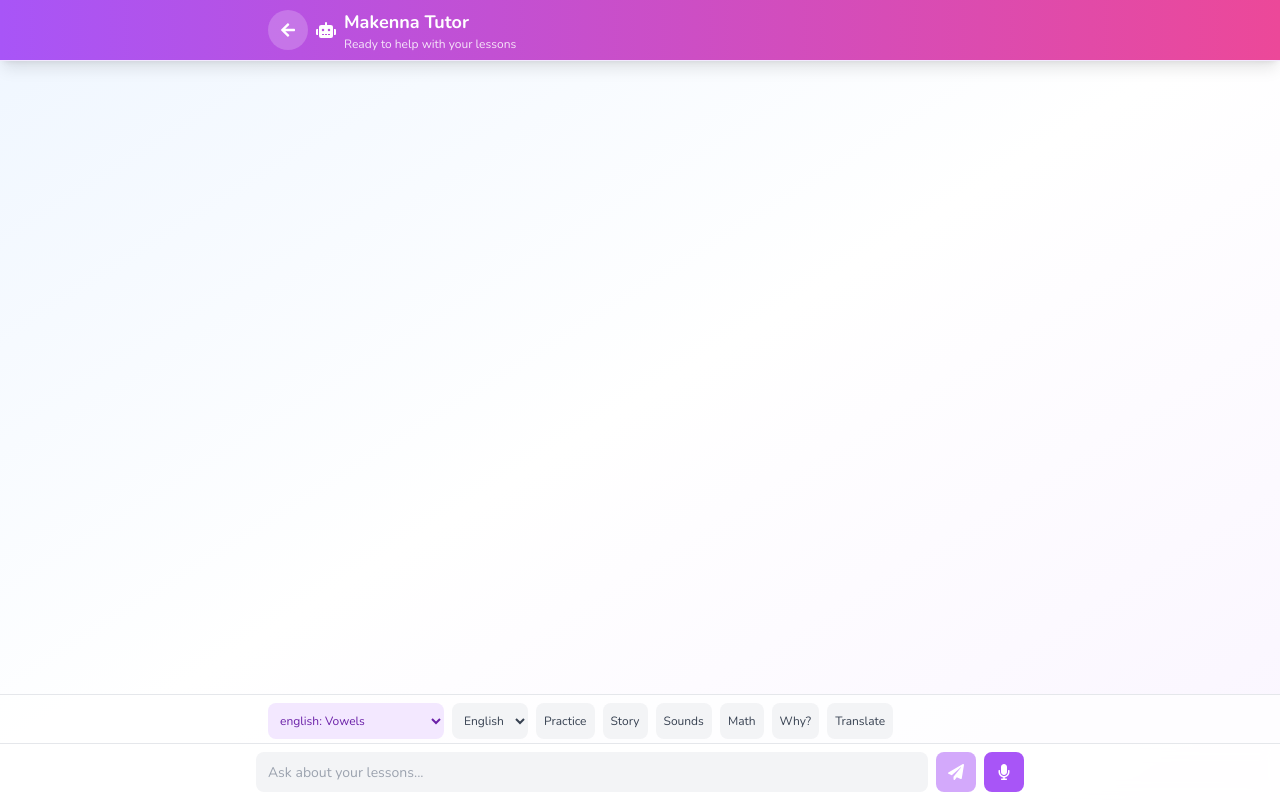
Makenna Tutor page › does not offer an unmatched lesson link
Type "Tell me a joke" into the field labelled "Ask about your lessons" at (592, 772), box [256,752,928,792]
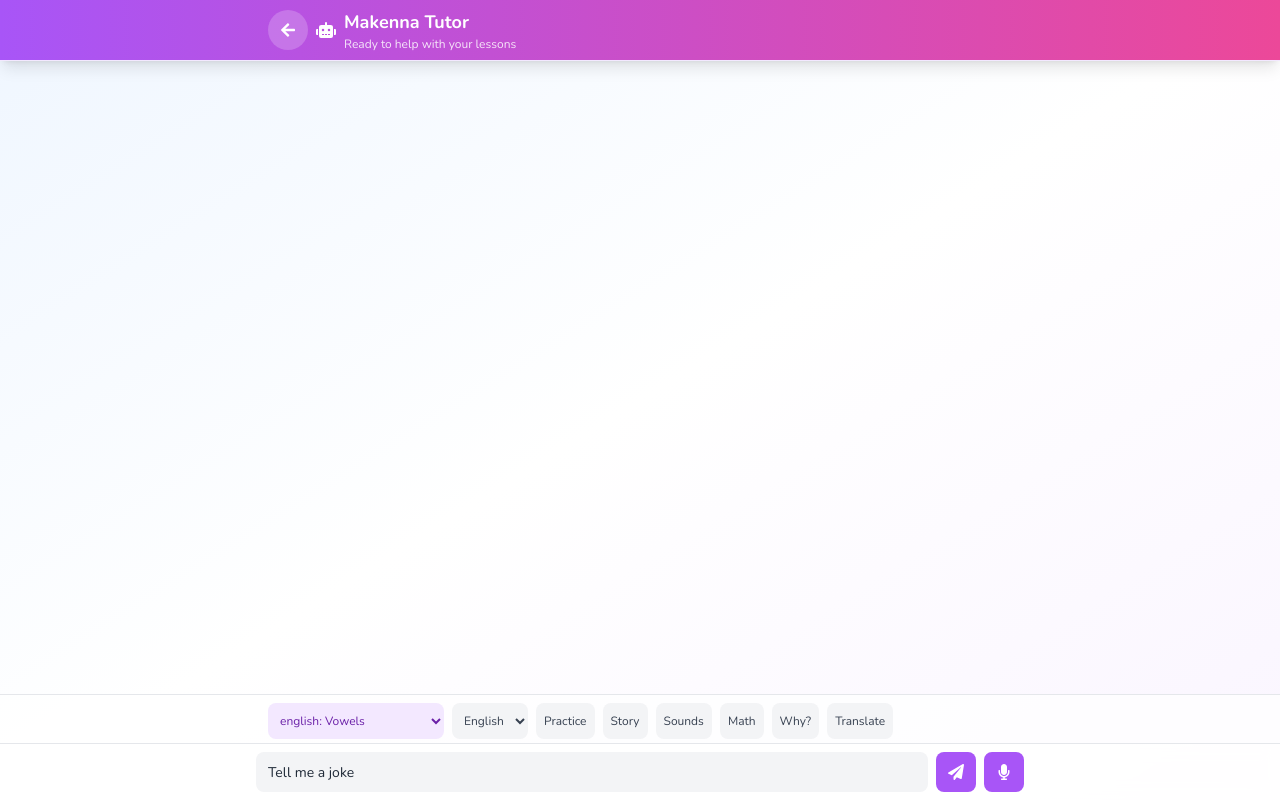
Click the button named "Send question" at (956, 772), box [936,752,976,792]
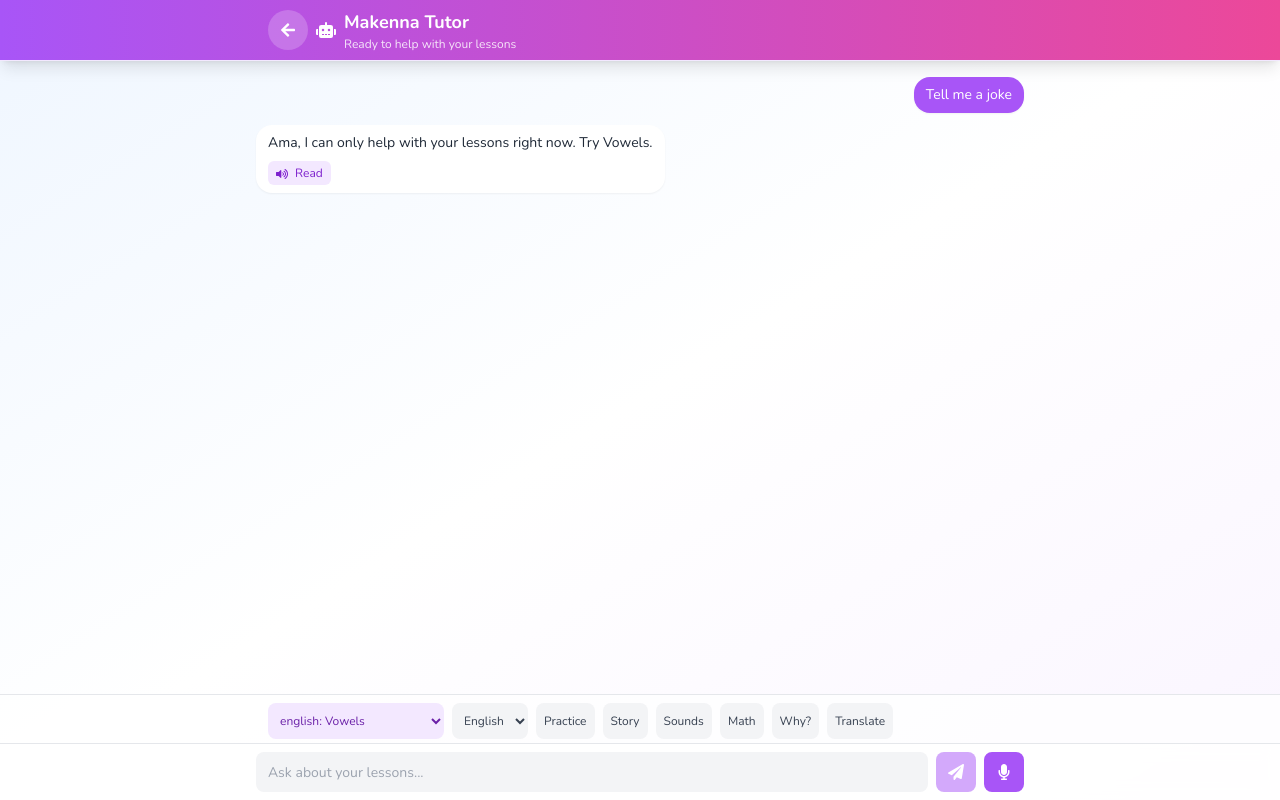
Expected: the text "Ama, I can only help with your lessons right now. Try Vowels." is shown, [268,133,652,153]
